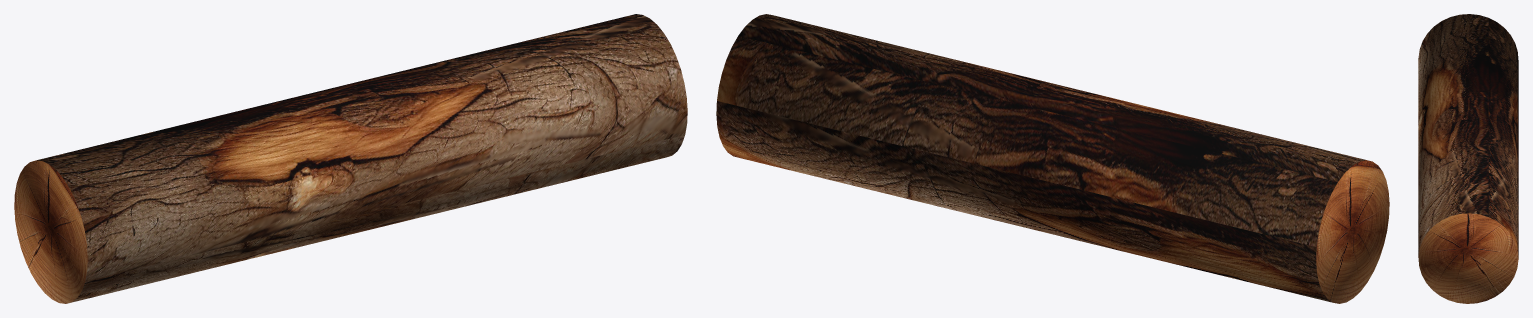
The model's file is pond_log.glb.
3 views of the same model, side by side, from view 1: azimuth 30°, elevation 25°; view 2: azimuth 150°, elevation 25°; view 3: azimuth 270°, elevation 25° (orthographic). The views are drawn at different scales.
Visible parts, largest first — view 1: Cylinder_Log_rocks_0; view 2: Cylinder_Log_rocks_0; view 3: Cylinder_Log_rocks_0.
Part boxes in pixels (x1,y1,x2,y2): Cylinder_Log_rocks_0: [14, 14, 687, 303]; Cylinder_Log_rocks_0: [716, 14, 1389, 303]; Cylinder_Log_rocks_0: [1418, 14, 1518, 303].
Size of the model in its own units: 0.9423 by 0.1999 by 0.1999.
1 material, 1 textured.
